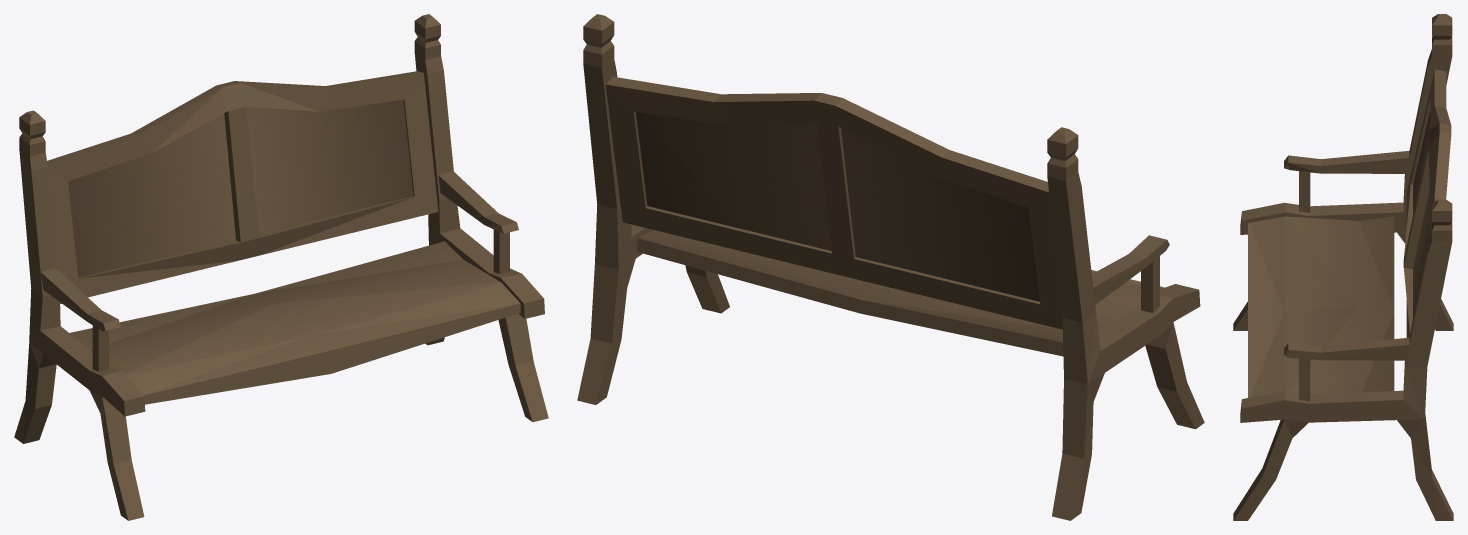
Rendered from ZLP_Build_F_13.FBX.
The picture shows the model from 3 angles, left to right: view 1: azimuth 30°, elevation 25°; view 2: azimuth 150°, elevation 25°; view 3: azimuth 270°, elevation 25°; orthographic projection. The views are drawn at different scales.
Parts seen in each view (by area): view 1: ZLP_Build_F_13; view 2: ZLP_Build_F_13; view 3: ZLP_Build_F_13.
Part boxes in pixels (x1,y1,x2,y2): ZLP_Build_F_13: [14, 14, 548, 520]; ZLP_Build_F_13: [577, 14, 1204, 520]; ZLP_Build_F_13: [1233, 14, 1453, 520].
Bounding box in the file's own units: 181 × 134 × 85.09.
